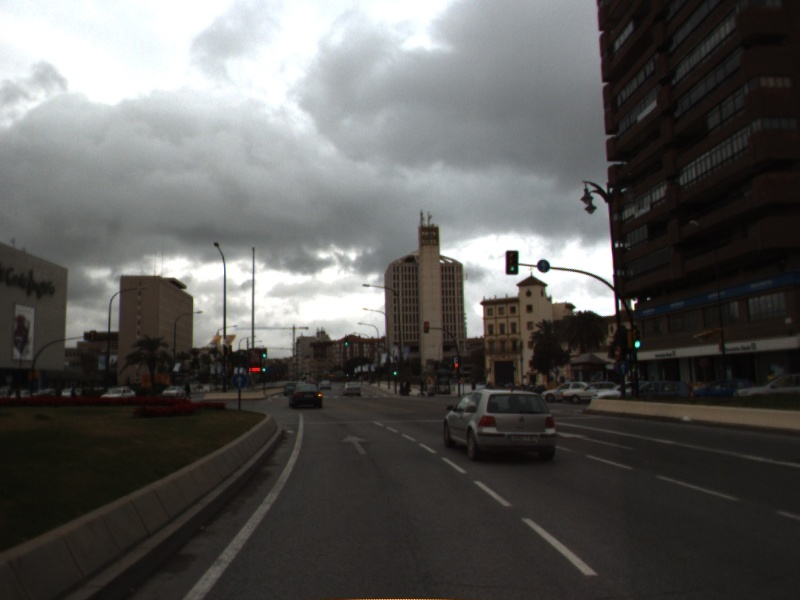STRAIGHT: (555, 429, 636, 452), (338, 432, 371, 457)
